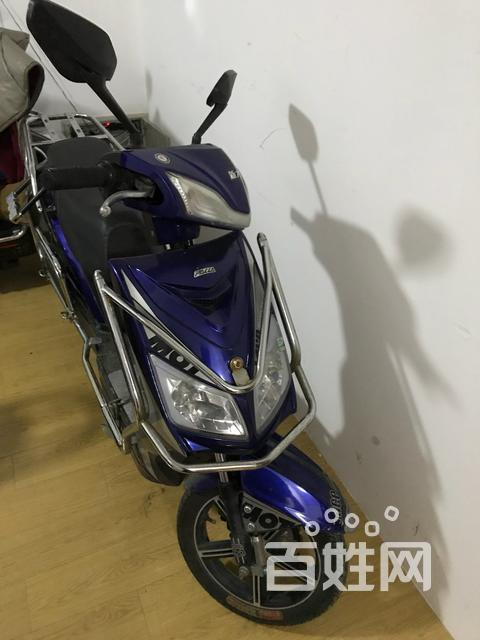电动车: (18, 1, 358, 630)
